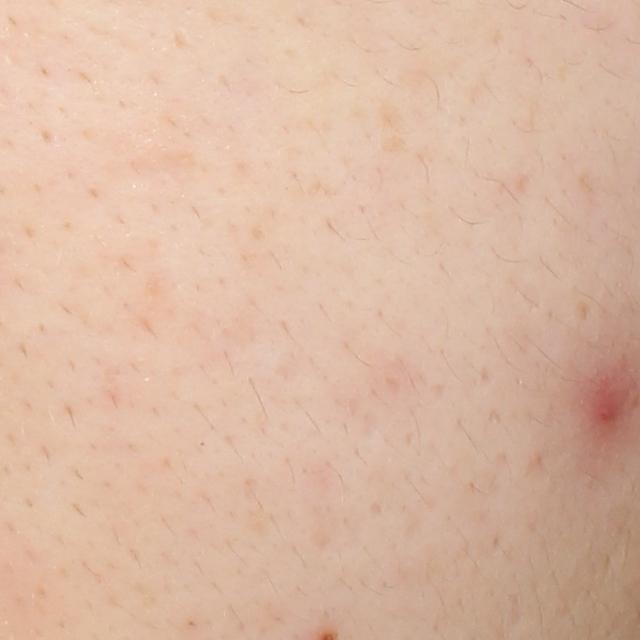papule: (592, 390, 629, 429)
